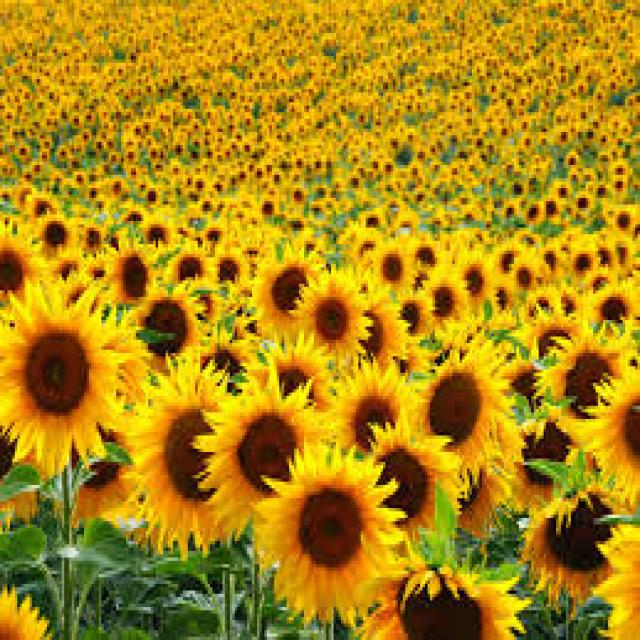sunflower: (232, 429, 408, 637), (114, 353, 257, 561), (0, 290, 141, 472), (188, 361, 326, 536), (399, 335, 510, 477), (529, 475, 637, 617), (355, 554, 533, 640), (305, 349, 419, 482), (290, 268, 374, 367), (126, 275, 205, 378), (422, 258, 470, 336), (101, 248, 158, 310), (370, 242, 418, 298), (28, 211, 78, 264), (509, 254, 546, 304), (568, 244, 600, 290), (522, 196, 548, 233)
